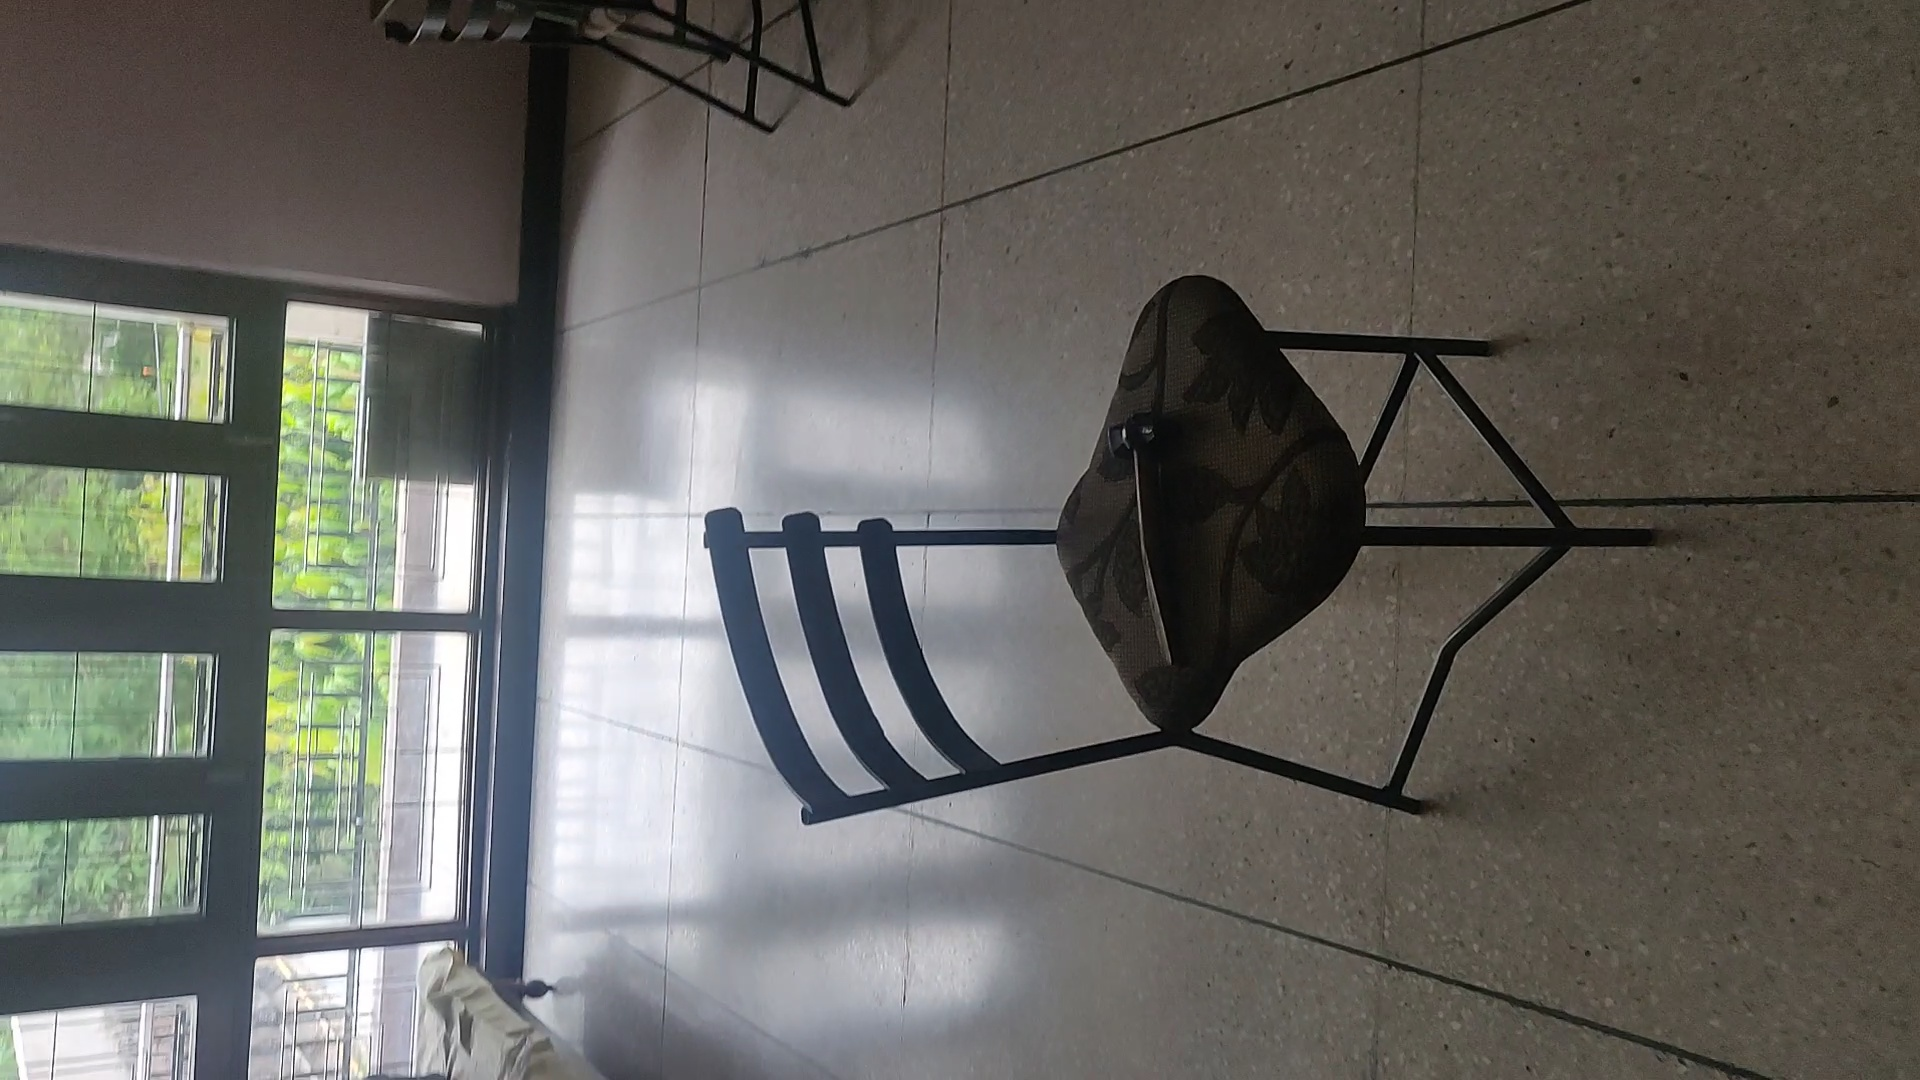hammer: (1101, 411, 1209, 665)
